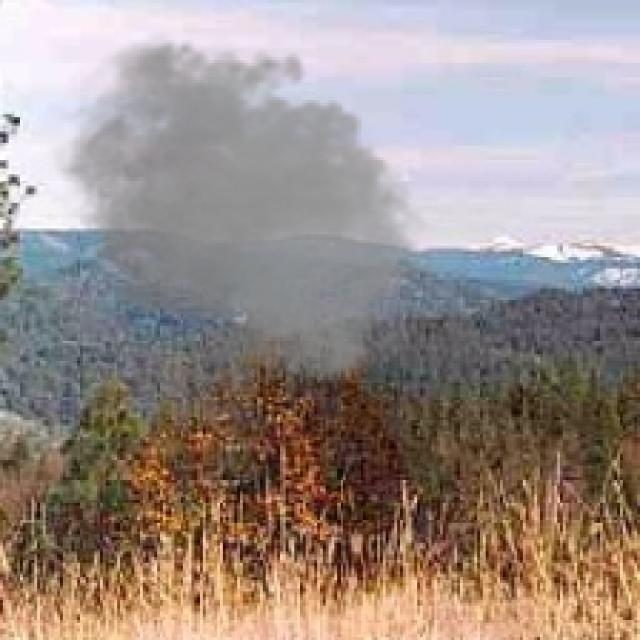smoke: (40, 28, 434, 386)
